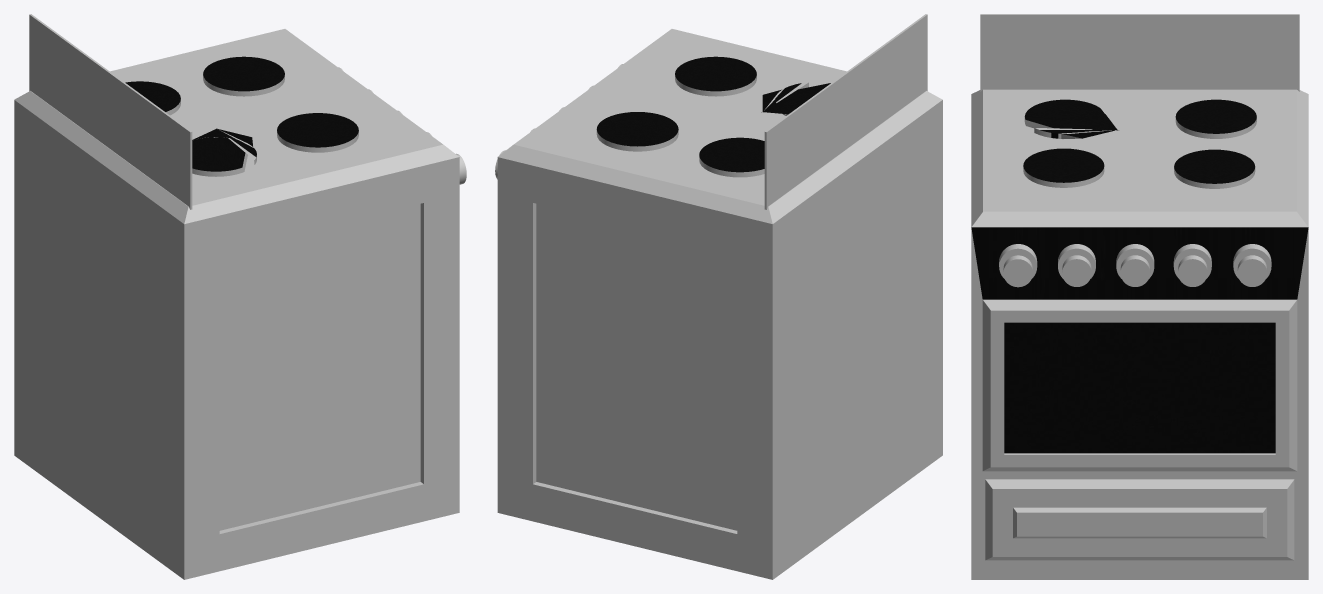
Rendered from stove.obj.
3 renders of one model, left to right at view 1: azimuth 30°, elevation 25°; view 2: azimuth 150°, elevation 25°; view 3: azimuth 270°, elevation 25°, orthographic.
Visible parts, largest first — view 1: Mesh; view 2: Mesh; view 3: Mesh.
Boxes of the visible parts, x1,y1,x2,y2 form: Mesh: (14, 14, 466, 579); Mesh: (495, 14, 942, 579); Mesh: (971, 14, 1308, 579).
Bounding box in the file's own units: 1.2 × 1.7 × 1.19.
